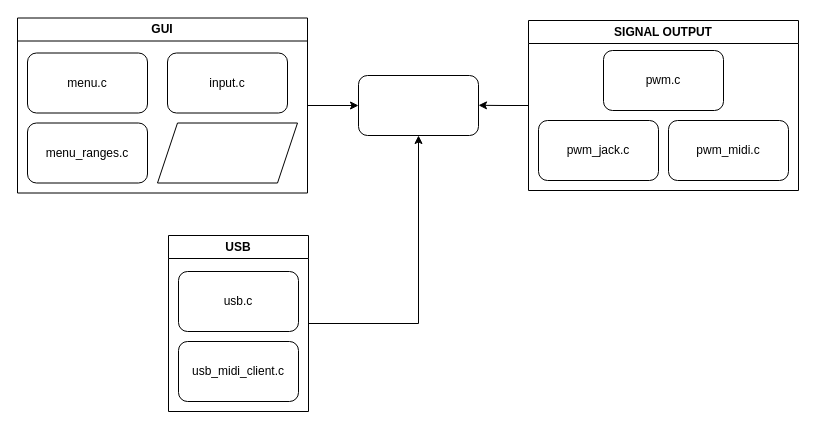
This 816x429 diagram has some shape labels left out. The centre of each missing label's shape, as x and y in pixels:
Interrupter main.c: (418,105)
ui/ (EEZ-Studio LVGL): (227,152)
